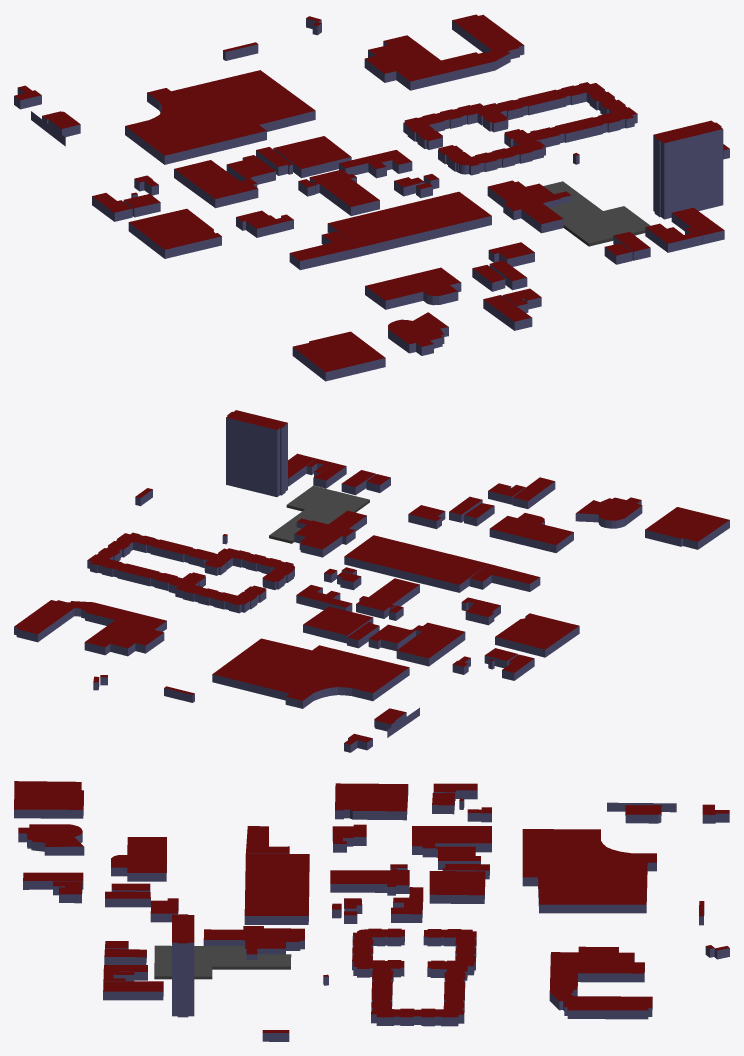
File: tile-buildings(-84.385000,33.755000,-84.380000,33.760000).osm.obj
3 renders of one model, top to bottom at view 1: azimuth 30°, elevation 25°; view 2: azimuth 150°, elevation 25°; view 3: azimuth 270°, elevation 25°, orthographic. The views are drawn at different scales.
Parts seen in each view (by area): view 1: Building Sheraton Atlanta Hotel, Building University Commons, Building Bethel Towers, Building GSU Dorm (Piedmont Central), Building Piedmont North, Building21, Building J Deck, Building One 12 Courtland, Building8, Building Centennial Hall, Building Citizens Trust Building, Building0 (+17 smaller); view 2: Building Sheraton Atlanta Hotel, Building University Commons, Building Bethel Towers, Building GSU Dorm (Piedmont Central), Building Piedmont North, Building21, Building One 12 Courtland, Building8, Building J Deck, Building Centennial Hall, Building Citizens Trust Building, Building0 (+9 smaller); view 3: Building Sheraton Atlanta Hotel, Building University Commons, Building Piedmont North, Building GSU Dorm (Piedmont Central), Building21, Building J Deck, Building One 12 Courtland, Building8, Building Bethel Towers, Building Citizens Trust Building, Building Centennial Hall, Building15 (+16 smaller).
Boxes of the visible parts, x1,y1,x2,y2 form: Building Sheraton Atlanta Hotel: (125,70,315,164); Building University Commons: (403,82,637,175); Building Bethel Towers: (653,120,723,219); Building GSU Dorm (Piedmont Central): (327,191,491,256); Building Piedmont North: (383,14,524,90); Building21: (174,155,275,208); Building J Deck: (543,181,650,246); Building One 12 Courtland: (128,208,221,258); Building8: (292,331,385,381); Building Centennial Hall: (365,267,461,309); Building Citizens Trust Building: (487,180,571,233); Building0: (273,136,351,178); Building Sheraton Atlanta Hotel: (212,638,409,708); Building University Commons: (87,532,294,613); Building Bethel Towers: (226,410,287,496); Building GSU Dorm (Piedmont Central): (344,535,488,592); Building Piedmont North: (14,600,166,655); Building21: (368,622,465,666); Building One 12 Courtland: (495,613,579,657); Building8: (645,507,729,549); Building J Deck: (269,485,369,543); Building Centennial Hall: (489,513,573,552); Building Citizens Trust Building: (294,510,366,557); Building0: (303,606,373,643); Building Sheraton Atlanta Hotel: (522,829,656,913); Building University Commons: (352,928,476,1026); Building Piedmont North: (549,952,652,1019); Building GSU Dorm (Piedmont Central): (244,854,309,924); Building21: (412,826,491,869); Building J Deck: (154,945,291,979); Building One 12 Courtland: (335,783,408,820); Building8: (14,781,83,818); Building Bethel Towers: (172,914,194,1017); Building Citizens Trust Building: (203,926,304,959); Building Centennial Hall: (111,837,166,881); Building15: (330,868,409,895).
Size of the model in its own units: 458 by 62.7 by 551.
